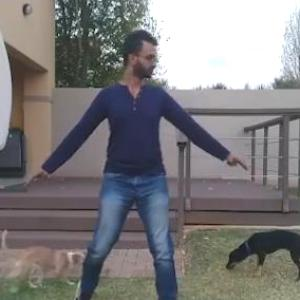land: (31, 26, 234, 299)
